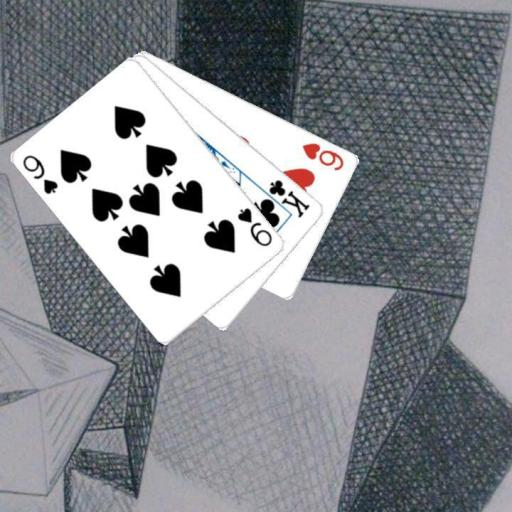card-corner: (256, 176, 312, 220), (234, 204, 274, 248), (20, 152, 60, 196), (300, 139, 346, 172)
